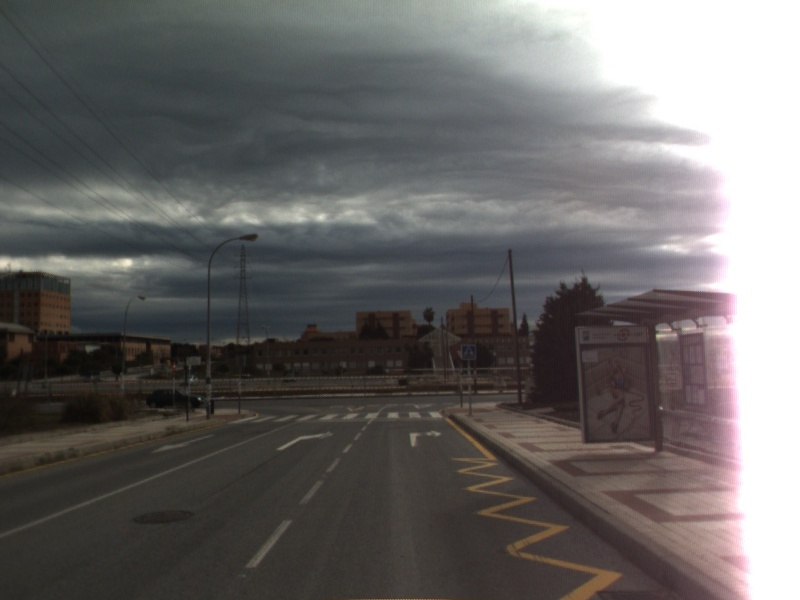RIGHT: (275, 429, 336, 452), (407, 428, 445, 449)
